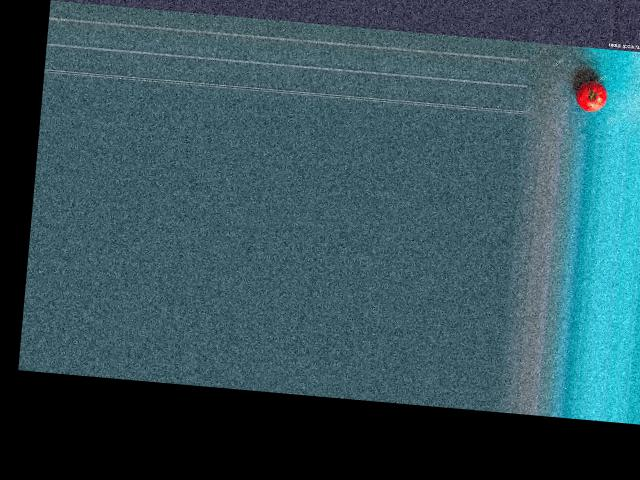tomato: (575, 79, 607, 112)
